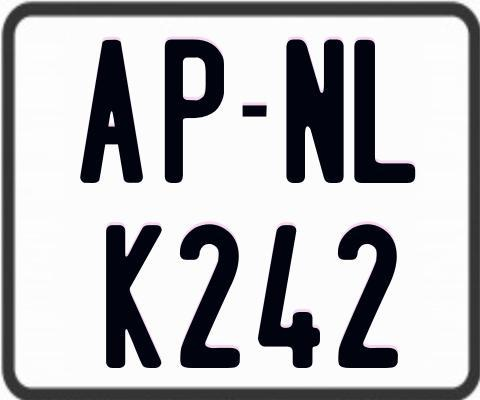2: (335, 223, 401, 369), (177, 221, 241, 370)
4: (257, 225, 321, 374)
A: (77, 39, 146, 186)
K: (106, 222, 162, 368)
L: (352, 37, 413, 186)
N: (285, 38, 349, 184)
P: (164, 37, 228, 183)
